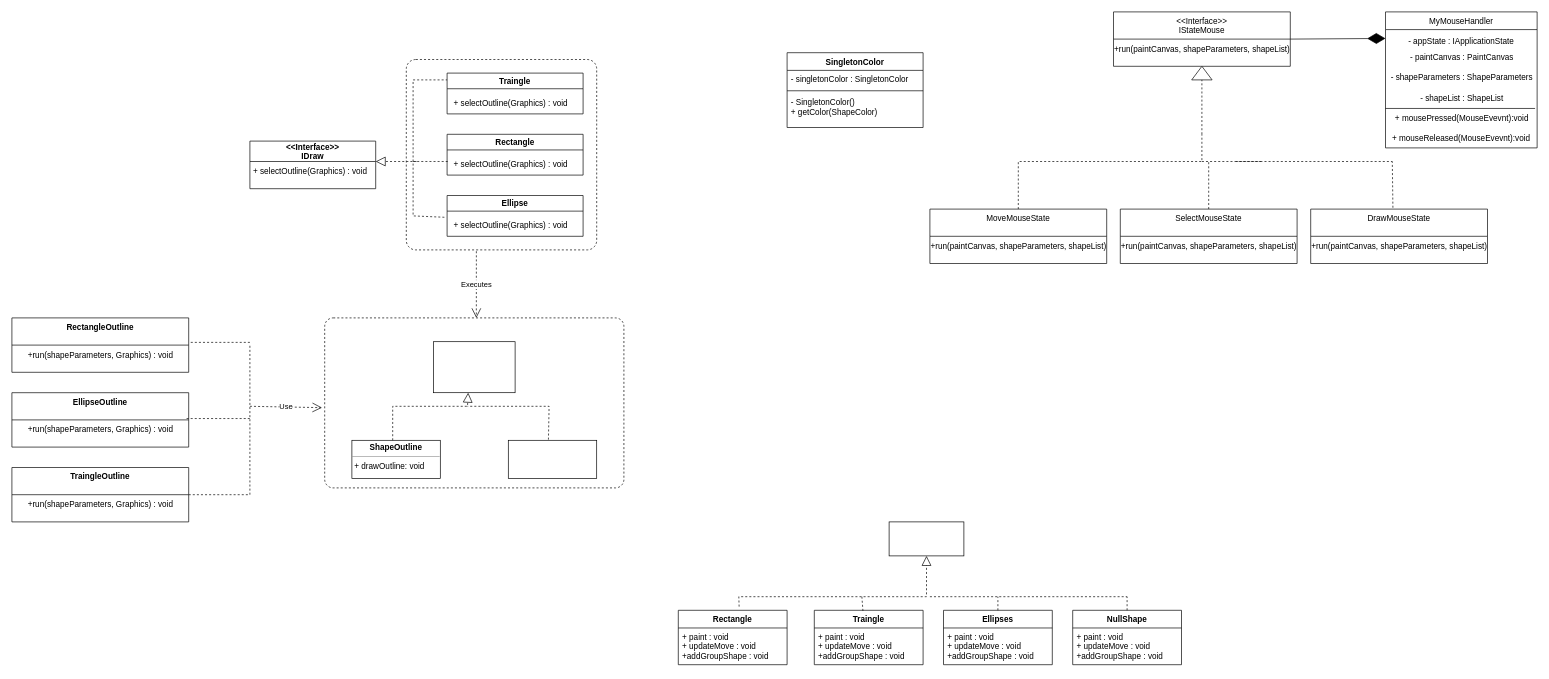
The diagram is 1549 pixels wide and 679 high, and some of its shapes have lost their labels. The centre of each missing label's shape, as x and y in pixels:
"<<Interface>> IProxyOutline + drawOutline: void" belongs at pixel 474 367.
"ShapeOutlineProxy + drawOutline: void" belongs at pixel 552 459.
"«interface» IDraw" belongs at pixel 926 538.
